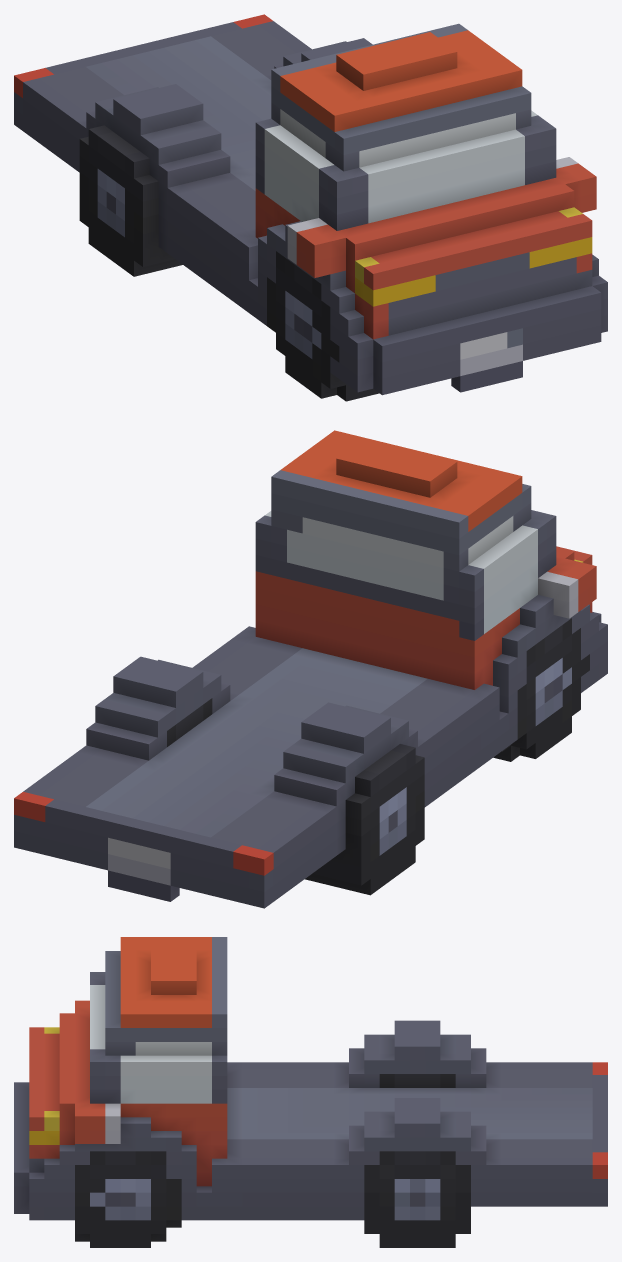
The model's file is delivery_flat.glb.
The picture shows the model from 3 angles, top to bottom: view 1: azimuth 30°, elevation 25°; view 2: azimuth 150°, elevation 25°; view 3: azimuth 270°, elevation 25°; orthographic projection. The views are drawn at different scales.
Parts seen in each view (by area): view 1: voxels; view 2: voxels; view 3: voxels.
Part boxes in pixels (left/top/right/bottom): voxels: left=14, top=14, right=607, bottom=401; voxels: left=14, top=430, right=607, bottom=908; voxels: left=14, top=937, right=607, bottom=1247.
Bounding box in the file's own units: 1.52 × 1.43 × 3.29.
